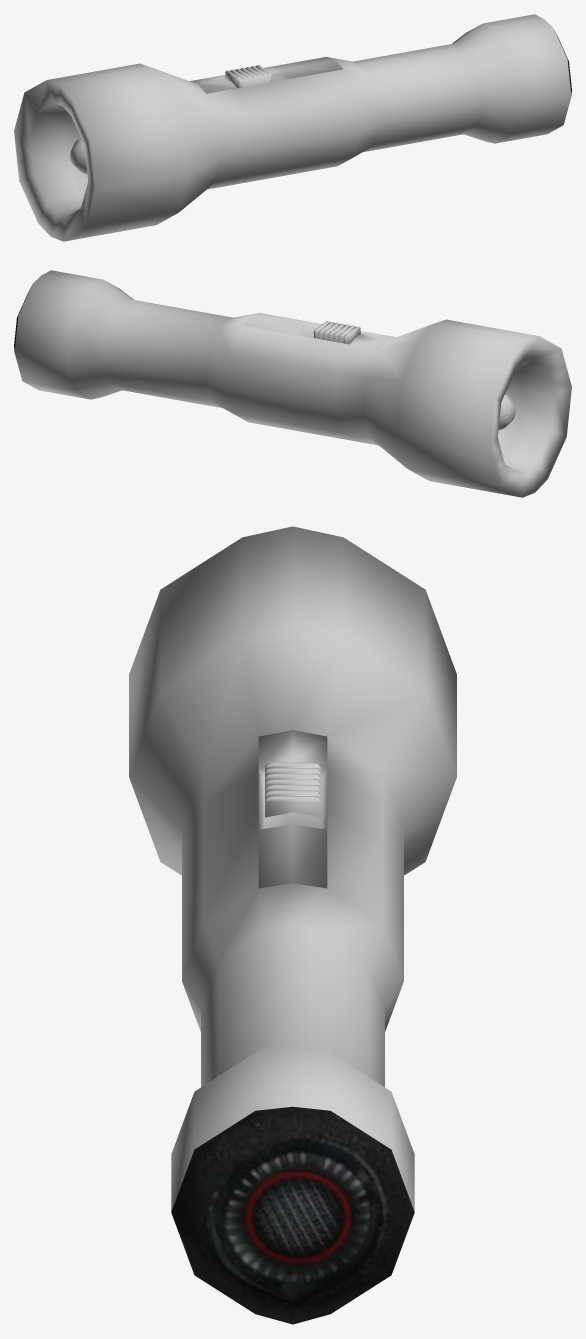
The model's file is poopy.fbx.
3 renders of one model, top to bottom at view 1: azimuth 30°, elevation 25°; view 2: azimuth 150°, elevation 25°; view 3: azimuth 270°, elevation 25°, orthographic. The views are drawn at different scales.
Visible parts, largest first — view 1: Boddy, Button; view 2: Boddy, Button; view 3: Boddy, Button.
Boxes of the visible parts, x1,y1,x2,y2 form: Boddy: (14,14,571,241); Button: (225,65,272,88); Boddy: (14,270,571,497); Button: (313,321,360,344); Boddy: (129,526,456,1324); Button: (265,762,320,817).
Bounding box in the file's own units: 13.65 × 4.29 × 3.85.
